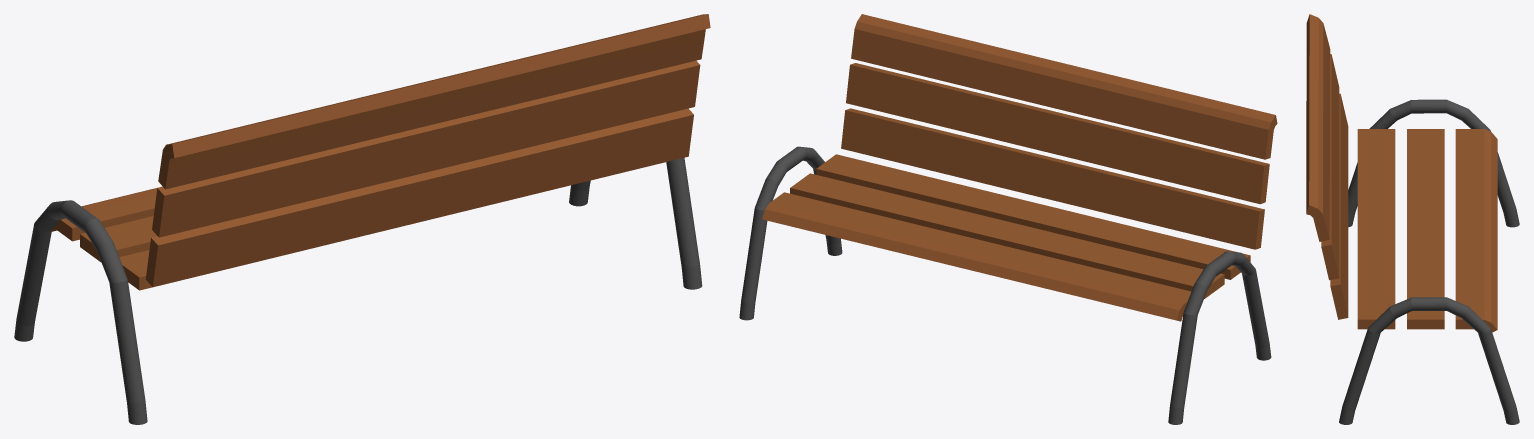
The model's file is Bench.fbx.
3 views of the same model, side by side, from view 1: azimuth 30°, elevation 25°; view 2: azimuth 150°, elevation 25°; view 3: azimuth 270°, elevation 25° (orthographic). The views are drawn at different scales.
Visible parts, largest first — view 1: Cube; view 2: Cube; view 3: Cube.
Part boxes in pixels (box(x1,y1,x2,y2)): Cube: box(14, 14, 710, 424); Cube: box(739, 14, 1277, 424); Cube: box(1306, 14, 1519, 424).
Bounding box in the file's own units: 269 × 132 × 119.
